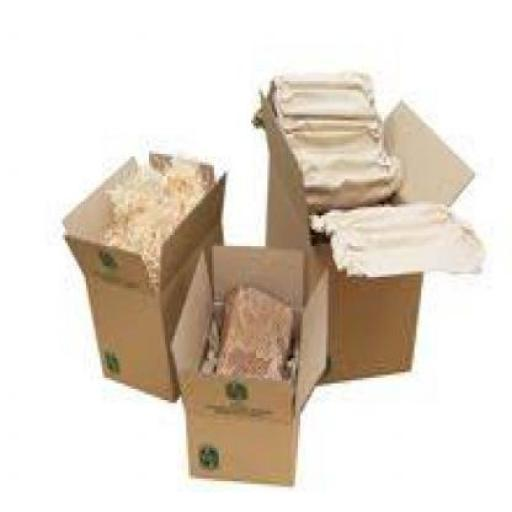cardboard: (254, 67, 478, 386), (68, 152, 230, 402), (172, 243, 332, 484)
